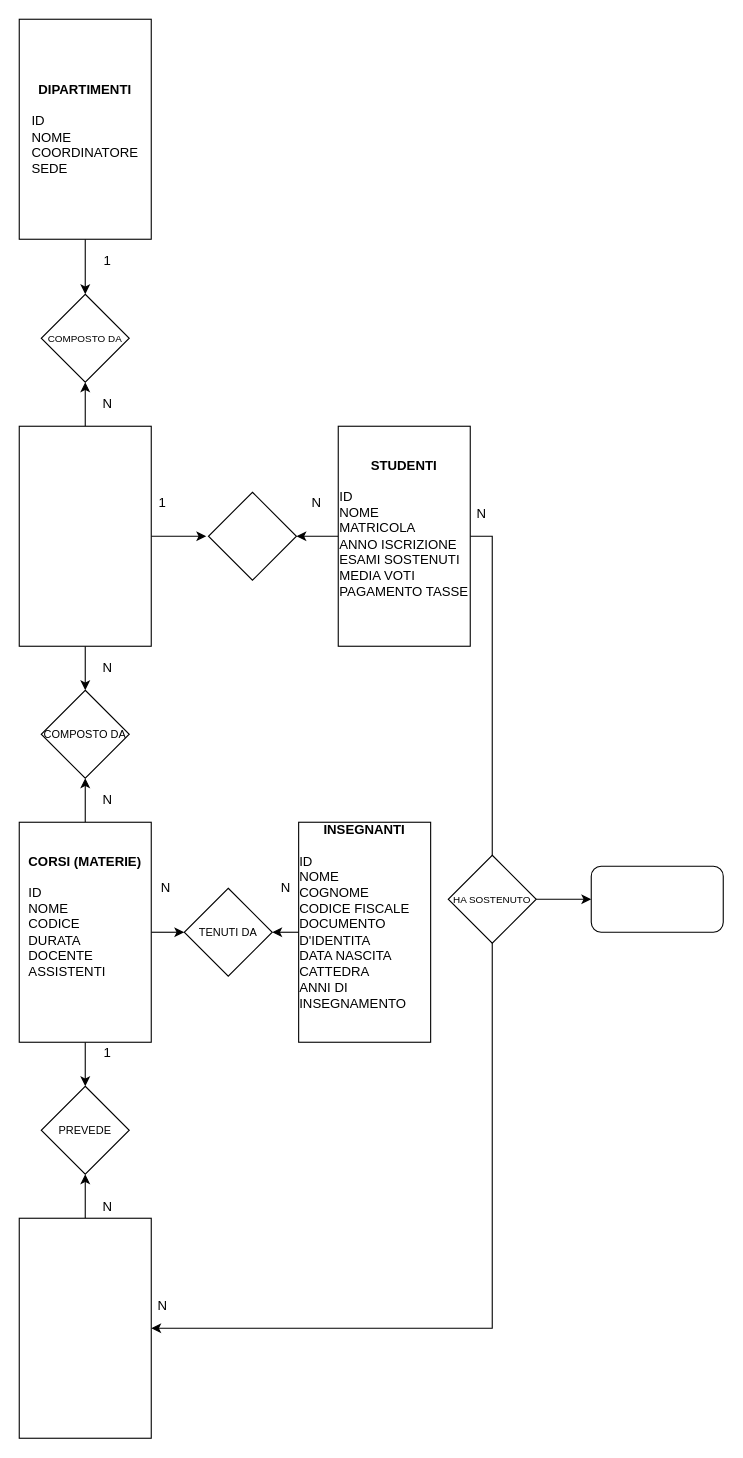
Some shapes in this 743 by 1458 pixel diagram are drawn without their labels. The shapes that lost their labels are listed below. From the top down, each one's centre as x and y in pixels, then its label:
At [84,535]: "CORSI DI LAUREA ID NOME CODICE ANNO ACCADEMICO DURATA COORDINATORE".
At [251,535]: "FREQUENTATI DA".
At [656,898]: "INSEGNANTE SUPERATO VOTO OTTENUTO LODE".
At [84,1327]: "APPELLI ESAMI ID NUMERO APPELLO DATA ORA SEDE AULA INSEGNANTI".
